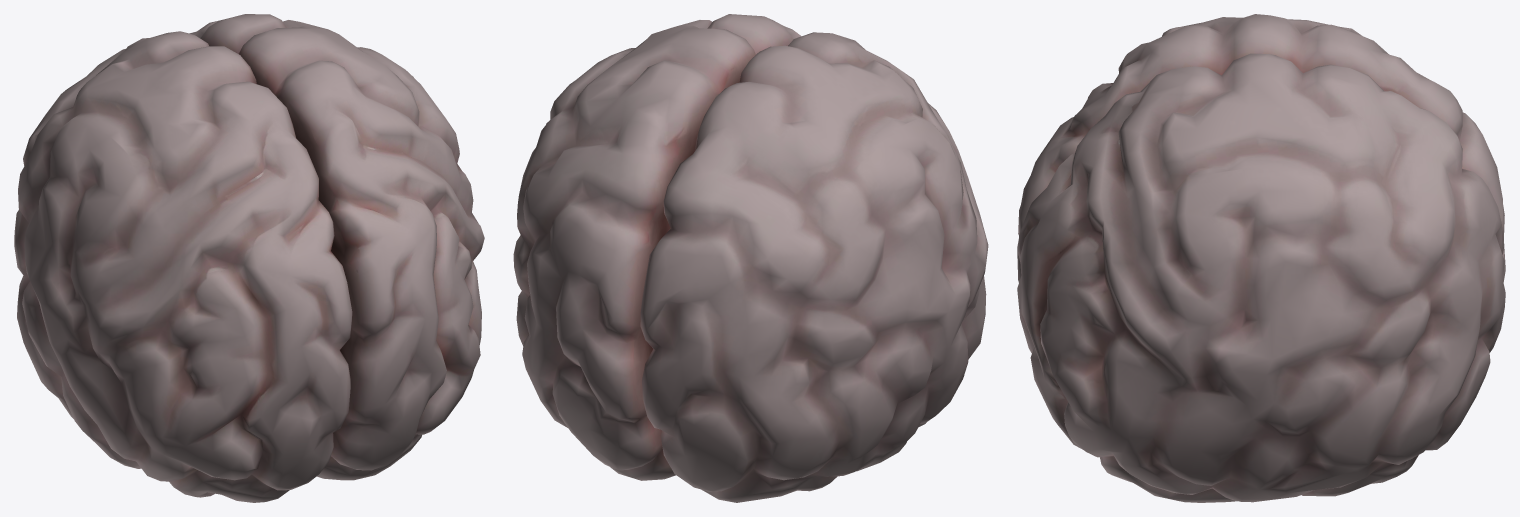
Rendered from brain.glb.
The picture shows the model from 3 angles, left to right: view 1: azimuth 30°, elevation 25°; view 2: azimuth 150°, elevation 25°; view 3: azimuth 270°, elevation 25°; orthographic projection. The views are drawn at different scales.
Parts seen in each view (by area): view 1: Pale Rose Hemisphere Brain; view 2: Pale Rose Hemisphere Brain; view 3: Pale Rose Hemisphere Brain.
Part boxes in pixels (left/top/right/bottom): Pale Rose Hemisphere Brain: left=14, top=14, right=484, bottom=502; Pale Rose Hemisphere Brain: left=513, top=14, right=988, bottom=502; Pale Rose Hemisphere Brain: left=1017, top=14, right=1505, bottom=502.
Size of the model in its own units: 0.9785 by 0.998 by 0.998.
1 material, 1 textured.
